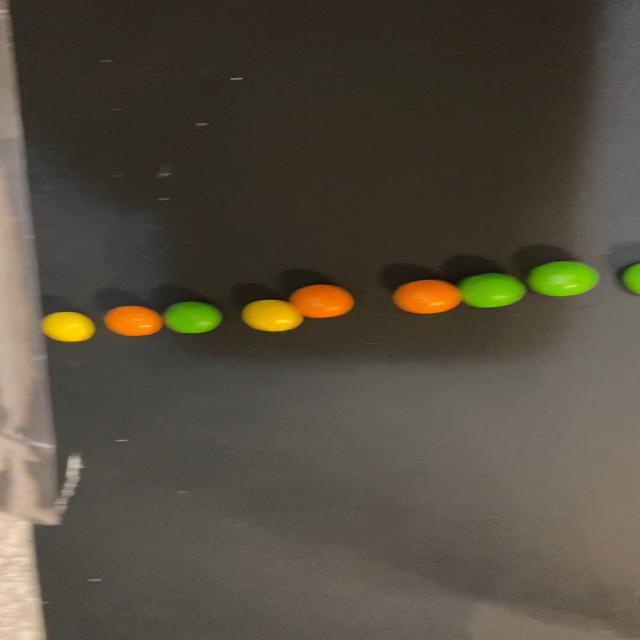smartie: (527, 261, 599, 296), (392, 279, 462, 314), (457, 273, 526, 308), (289, 285, 353, 318), (241, 300, 303, 332), (162, 301, 222, 333), (103, 306, 162, 336), (41, 313, 94, 342)
